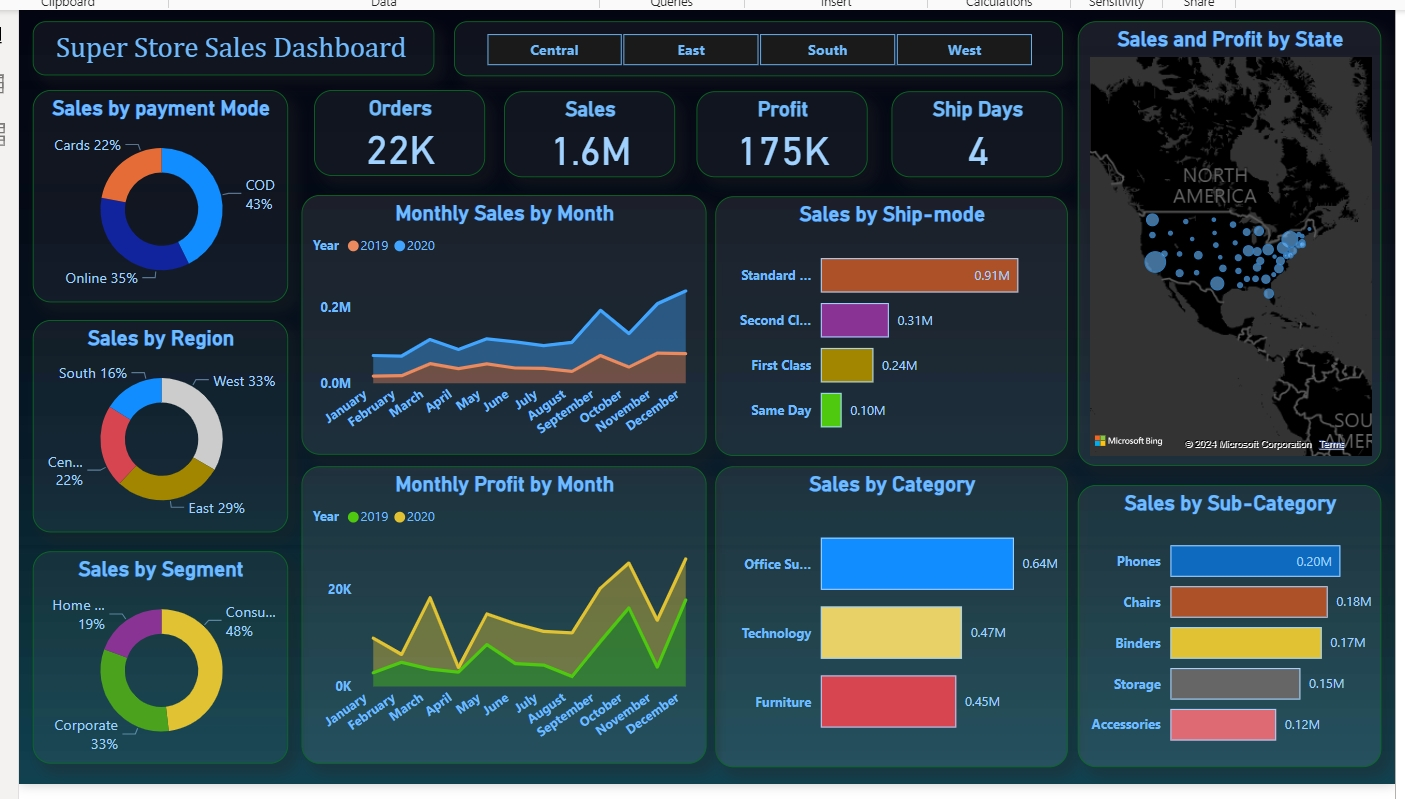

This screenshot's page, from the dashboard's own definition file:
{"tool":"powerbi","page":{"name":"Page 1","canvas":[1280,720],"ordinal":0},"visuals":[{"type":"clusteredBarChart","title":"Sales by Category","fields":{"Category":["Sheet1.Category"],"Y":["Sum(Sheet1.Sales)"]},"box":[647.7,424.4,327.9,280.2],"z":0},{"type":"clusteredBarChart","title":"Sales by Sub-Category","fields":{"Y":["Sum(Sheet1.Sales)"],"Category":["Sheet1.Sub-Category"]},"box":[984.9,441.9,282.6,262.8],"z":1000},{"type":"clusteredBarChart","title":"Sales by Ship-mode","fields":{"Category":["Sheet1.Ship Mode"],"Y":["Sum(Sheet1.Sales)"]},"box":[647.7,173.3,327.9,241.9],"z":2000},{"type":"stackedAreaChart","title":"Monthly Sales by Month","fields":{"Category":["Sheet1.Order Date.Variation.Date Hierarchy.Month"],"Y":["Sum(Sheet1.Sales)"],"Series":["Sheet1.Order Date.Variation.Date Hierarchy.Year"]},"box":[262.8,172.1,376.7,241.9],"z":3000},{"type":"stackedAreaChart","title":"Monthly Profit by Month","fields":{"Category":["Sheet1.Order Date.Variation.Date Hierarchy.Month"],"Series":["Sheet1.Order Date.Variation.Date Hierarchy.Year"],"Y":["Sum(Sheet1.Profit)"]},"box":[262.8,424.4,376.7,276.7],"z":4000},{"type":"map","title":"Sales and Profit by State","fields":{"Category":["Sheet1.State"],"Size":["Sum(Sheet1.Sales)"]},"box":[984.9,10.5,282.6,414],"z":5000},{"type":"donutChart","title":"Sales by Segment","fields":{"Category":["Sheet1.Segment"],"Y":["Sum(Sheet1.Sales)"]},"box":[12.8,503.5,237.2,197.7],"z":6000},{"type":"donutChart","title":"Sales by payment Mode","fields":{"Y":["Sum(Sheet1.Sales)"],"Category":["Sheet1.Payment Mode"]},"box":[12.8,74.4,237.2,197.7],"z":7000},{"type":"slicer","fields":{"Values":["Sheet1.Region"]},"box":[404.7,10.5,566.3,51.2],"z":8000},{"type":"textbox","box":[12.8,10.5,373.3,50],"z":9000},{"type":"card","title":"Sales","fields":{"Values":["Sum(Sheet1.Sales)"]},"box":[451.2,75.6,159.3,80.2],"z":10000},{"type":"card","title":"Profit","fields":{"Values":["Sum(Sheet1.Profit)"]},"box":[630.2,75.6,159.3,80.2],"z":11000},{"type":"card","title":"Orders","fields":{"Values":["Sum(Sheet1.Quantity)"]},"box":[274.4,74.4,159.3,80.2],"z":12000},{"type":"card","title":"Ship Days","fields":{"Values":["Avg(Sheet1.AvgDelivery)"]},"box":[811.6,75.6,159.3,80.2],"z":13000},{"type":"donutChart","title":"Sales by Region","fields":{"Y":["Sum(Sheet1.Sales)"],"Category":["Sheet1.Region"]},"box":[12.8,288.4,237.2,197.7],"z":14000}]}

Visuals, with their boxes on the page's 1280x720 design canvas (x1, y1, x2, y2). These are canvas units, not pixel positions in the 1405x799 screenshot, which may show the page scaled, cropped or inside an application window:
"Sales by Category" clusteredBarChart: <box>648,424,976,705</box>
"Sales by Sub-Category" clusteredBarChart: <box>985,442,1268,705</box>
"Sales by Ship-mode" clusteredBarChart: <box>648,173,976,415</box>
"Monthly Sales by Month" stackedAreaChart: <box>263,172,640,414</box>
"Monthly Profit by Month" stackedAreaChart: <box>263,424,640,701</box>
"Sales and Profit by State" map: <box>985,10,1268,424</box>
"Sales by Segment" donutChart: <box>13,504,250,701</box>
"Sales by payment Mode" donutChart: <box>13,74,250,272</box>
slicer - Sheet1.Region: <box>405,10,971,62</box>
textbox: <box>13,10,386,60</box>
"Sales" card: <box>451,76,610,156</box>
"Profit" card: <box>630,76,790,156</box>
"Orders" card: <box>274,74,434,155</box>
"Ship Days" card: <box>812,76,971,156</box>
"Sales by Region" donutChart: <box>13,288,250,486</box>
